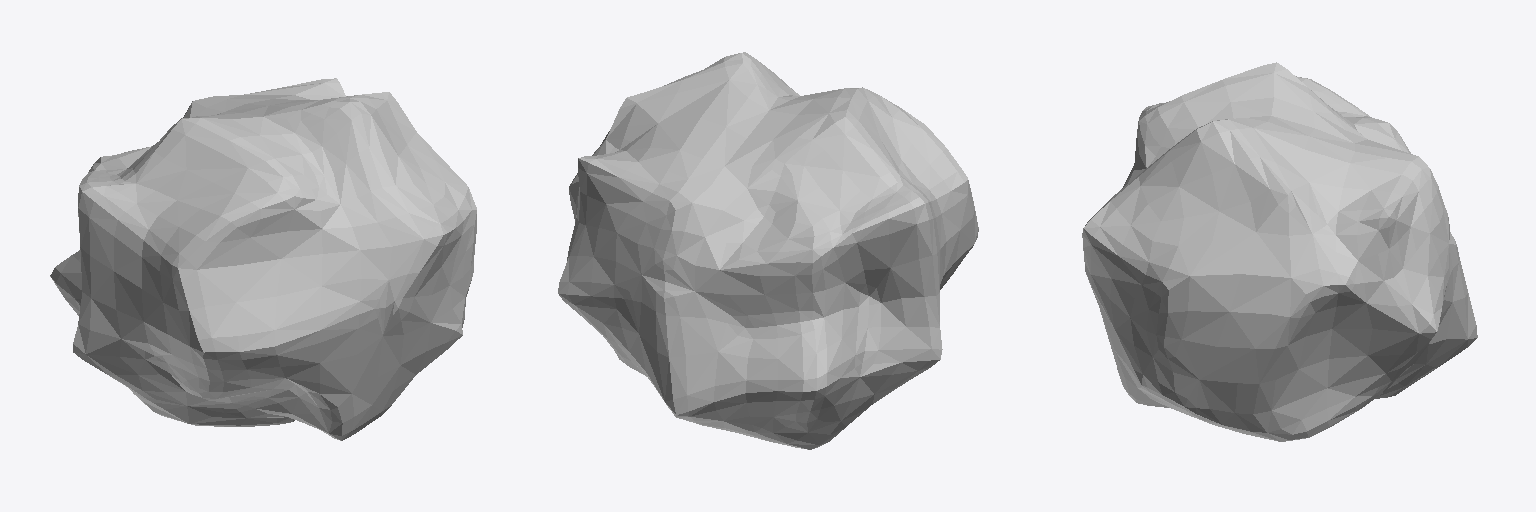
Rendered from Asteroid_Small_2.obj.
3 renders of one model, left to right at view 1: azimuth 30°, elevation 25°; view 2: azimuth 150°, elevation 25°; view 3: azimuth 270°, elevation 25°, orthographic.
Parts seen in each view (by area): view 1: Aster_Small_6__Cube.012; view 2: Aster_Small_6__Cube.012; view 3: Aster_Small_6__Cube.012.
Boxes of the visible parts, box(x1,y1,x2,y2) form: Aster_Small_6__Cube.012: box(50, 78, 476, 440); Aster_Small_6__Cube.012: box(558, 52, 978, 449); Aster_Small_6__Cube.012: box(1082, 62, 1477, 441).
Bounding box in the file's own units: 1.3 × 1.14 × 1.24.